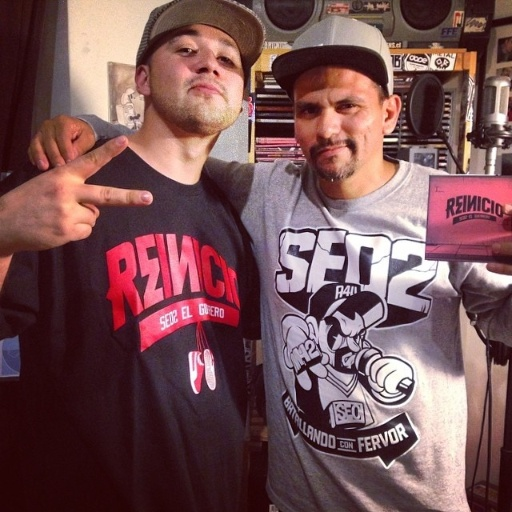hand: (16, 118, 128, 256), (24, 112, 94, 172), (486, 201, 511, 275)
